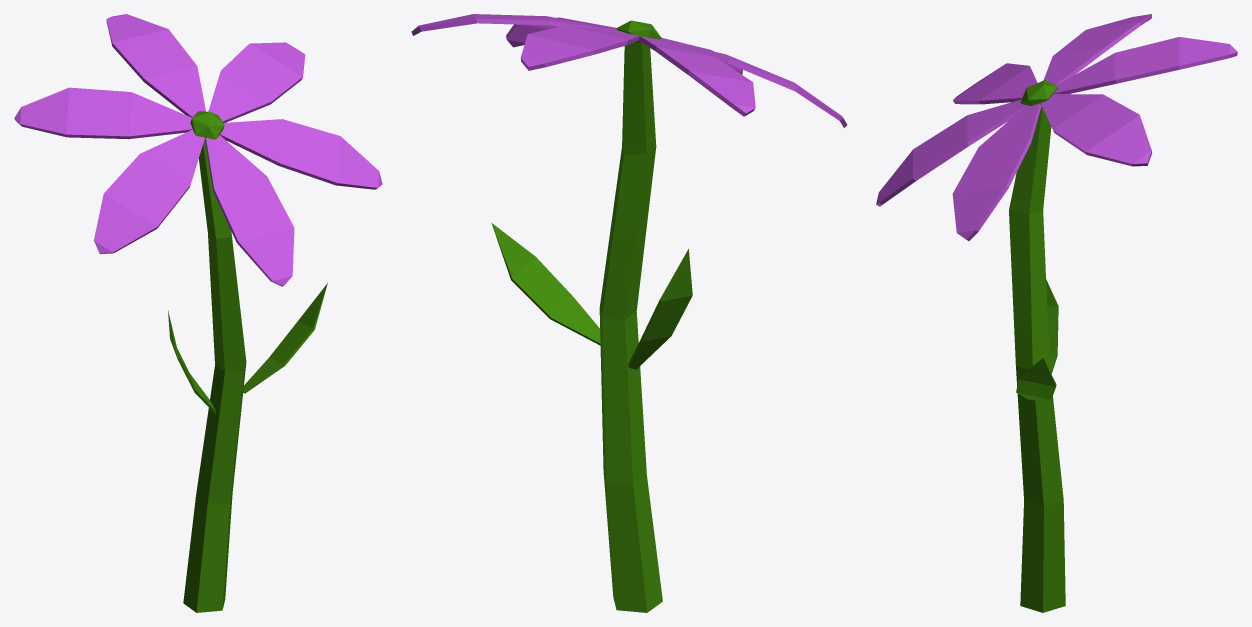
Rendered from Flower_c_a_01.fbx.
The picture shows the model from 3 angles, left to right: view 1: azimuth 30°, elevation 25°; view 2: azimuth 150°, elevation 25°; view 3: azimuth 270°, elevation 25°; orthographic projection. The views are drawn at different scales.
Visible parts, largest first — view 1: Flower_g_a_01_LOD0; view 2: Flower_g_a_01_LOD0; view 3: Flower_g_a_01_LOD0.
Part boxes in pixels (x1=…): Flower_g_a_01_LOD0: x1=14, y1=14, x2=382, y2=612; Flower_g_a_01_LOD0: x1=411, y1=14, x2=847, y2=612; Flower_g_a_01_LOD0: x1=876, y1=14, x2=1237, y2=612.
Bounding box in the file's own units: 1.74 × 1.81 × 3.06.
